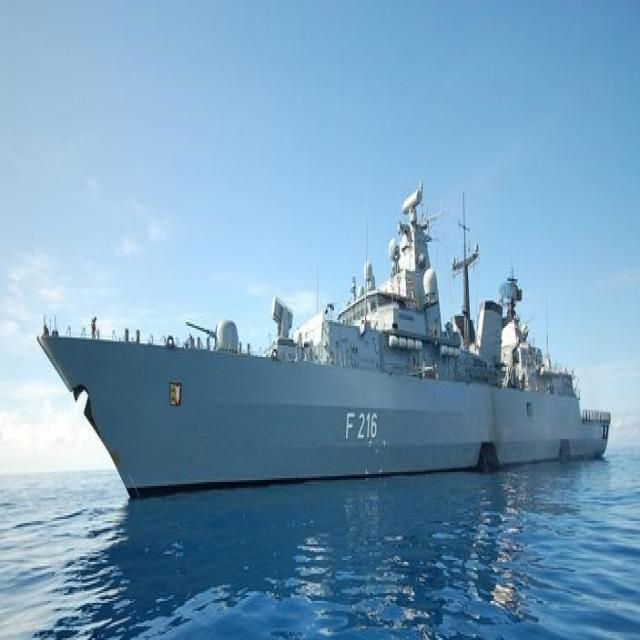navalvessels: (37, 140, 610, 497)
